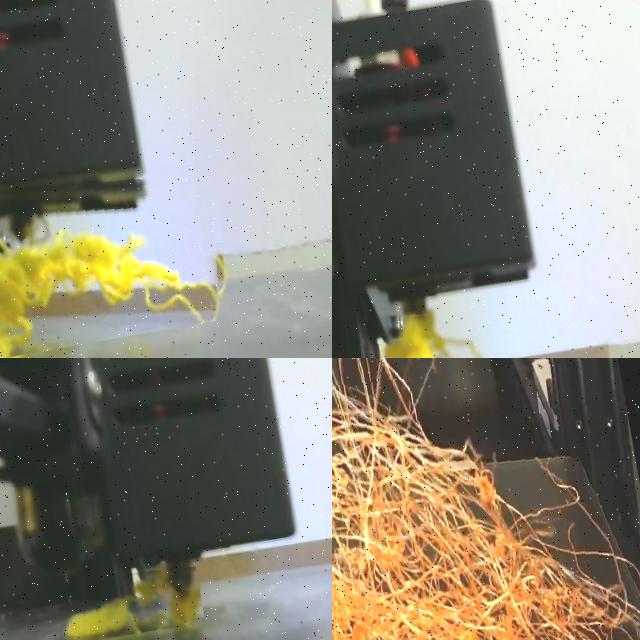spaghetti: (332, 358, 640, 640), (0, 229, 221, 358), (65, 568, 200, 640), (386, 315, 452, 358)
